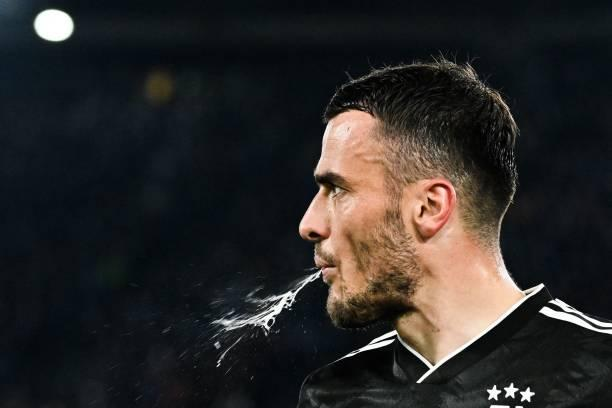Spitting: (231, 36, 528, 332)
